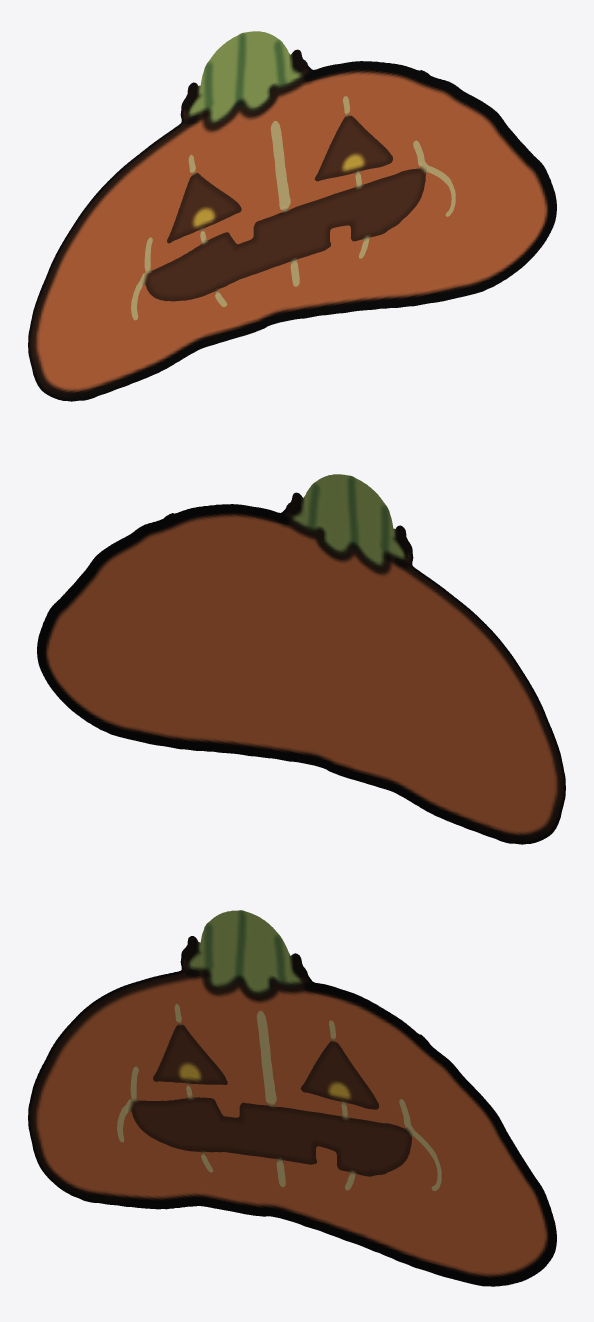
File: nanguaTou_wood.FBX
The picture shows the model from 3 angles, top to bottom: view 1: azimuth 30°, elevation 25°; view 2: azimuth 150°, elevation 25°; view 3: azimuth 330°, elevation 25°; orthographic projection.
Parts seen in each view (by area): view 1: nanguaTou_wood; view 2: nanguaTou_wood; view 3: nanguaTou_wood.
Part boxes in pixels (x1=…): nanguaTou_wood: x1=28, y1=31, x2=556, y2=401; nanguaTou_wood: x1=37, y1=474, x2=565, y2=844; nanguaTou_wood: x1=28, y1=910, x2=556, y2=1286.
Bounding box in the file's own units: 210 × 125 × 4.48.
